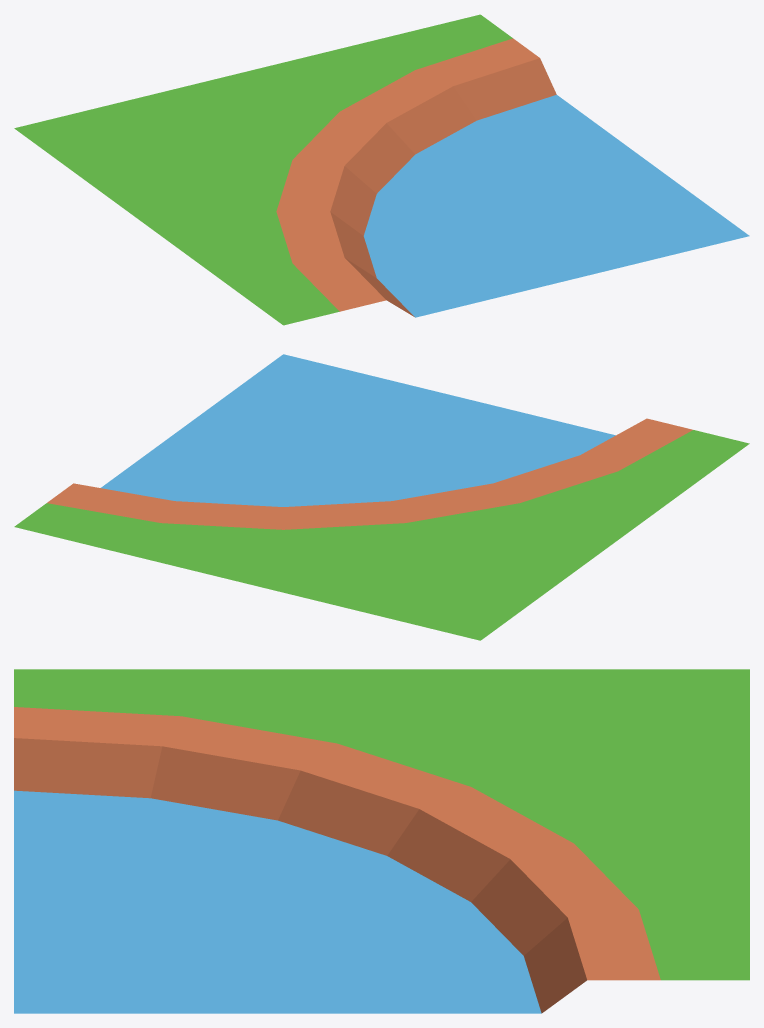
File: ground_riverCorner.glb
3 renders of one model, top to bottom at view 1: azimuth 30°, elevation 25°; view 2: azimuth 150°, elevation 25°; view 3: azimuth 270°, elevation 25°, orthographic. The views are drawn at different scales.
Visible parts, largest first — view 1: ground_riverCorner; view 2: ground_riverCorner; view 3: ground_riverCorner.
Boxes of the visible parts, x1,y1,x2,y2 form: ground_riverCorner: [14, 14, 749, 325]; ground_riverCorner: [14, 354, 749, 640]; ground_riverCorner: [14, 669, 749, 1013].
Bounding box in the file's own units: 1 × 0.05 × 1.
